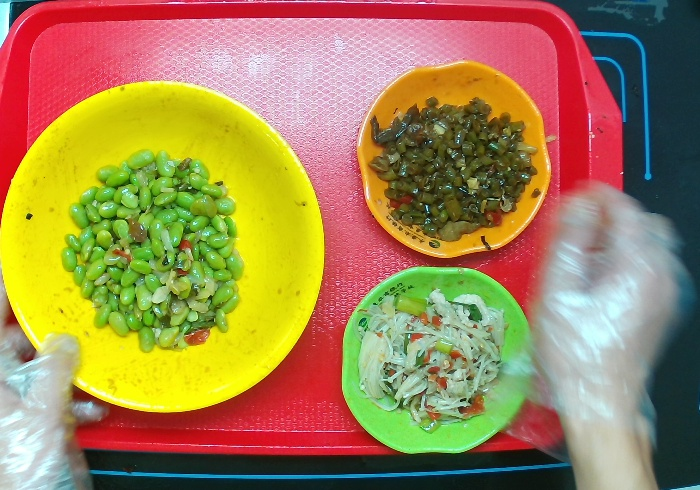YKMZ-Huang_Se_Tang_Wan: (1, 78, 327, 415)
YKMZ-Ju_Se_Ao_Bian_Wan: (354, 58, 554, 260)
YKMZ-Lv_Se_Ao_Bian_Wan: (336, 263, 537, 456)
